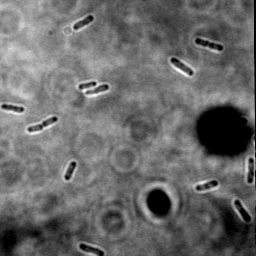Dividing: (25, 114, 59, 135), (193, 36, 225, 53)
Rod: (169, 56, 195, 77), (232, 198, 253, 224), (77, 242, 105, 256), (72, 14, 94, 31), (83, 83, 111, 96), (193, 179, 219, 193), (62, 159, 77, 182), (245, 157, 256, 185), (1, 103, 26, 114), (76, 79, 97, 91)
